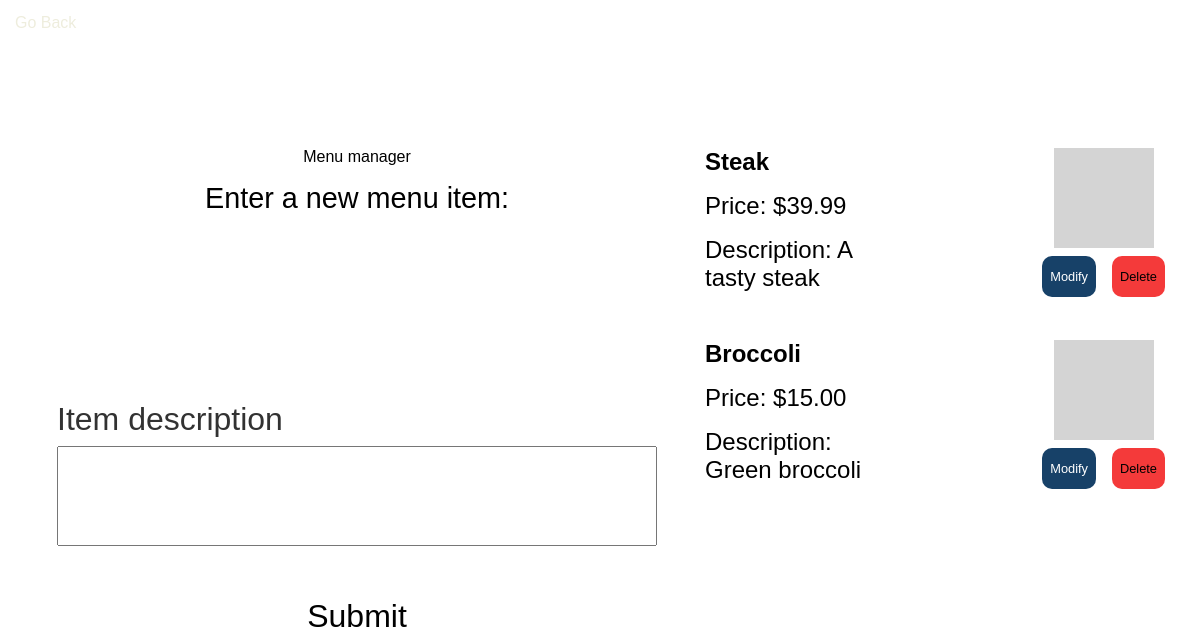
Scenario: Tests for menu component › Clicking delete removes item from menu
The image size is (1182, 644).
Click the button "Delete" in the row of "A tasty steak" at (1138, 276), box [1112,256,1165,297]
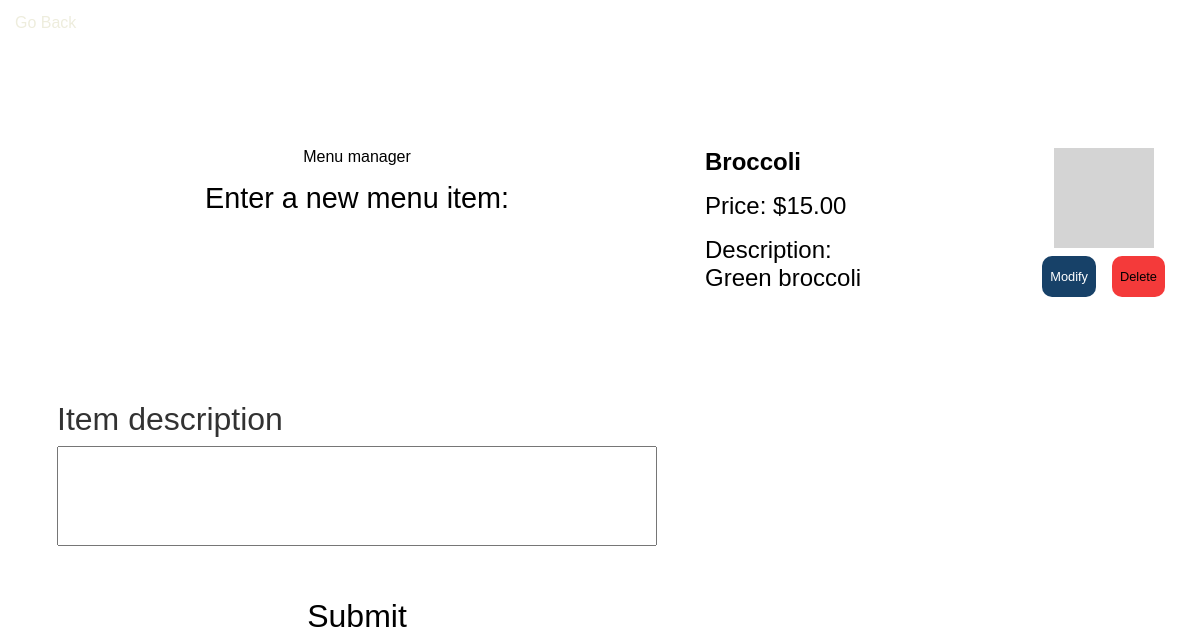
Check: the number of buttons "Delete" is 1, box [1112,256,1165,297]
